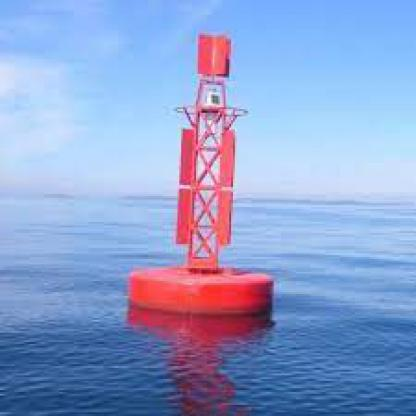buoy: (120, 23, 281, 326)
